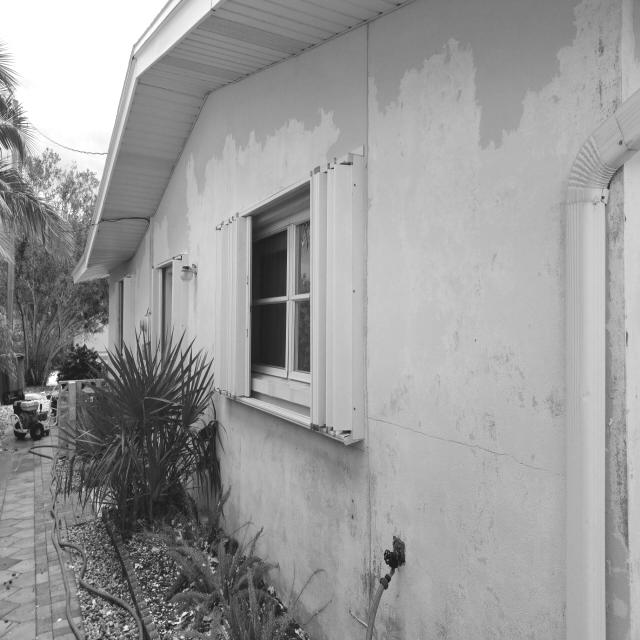peeling paint: (122, 0, 640, 640)
